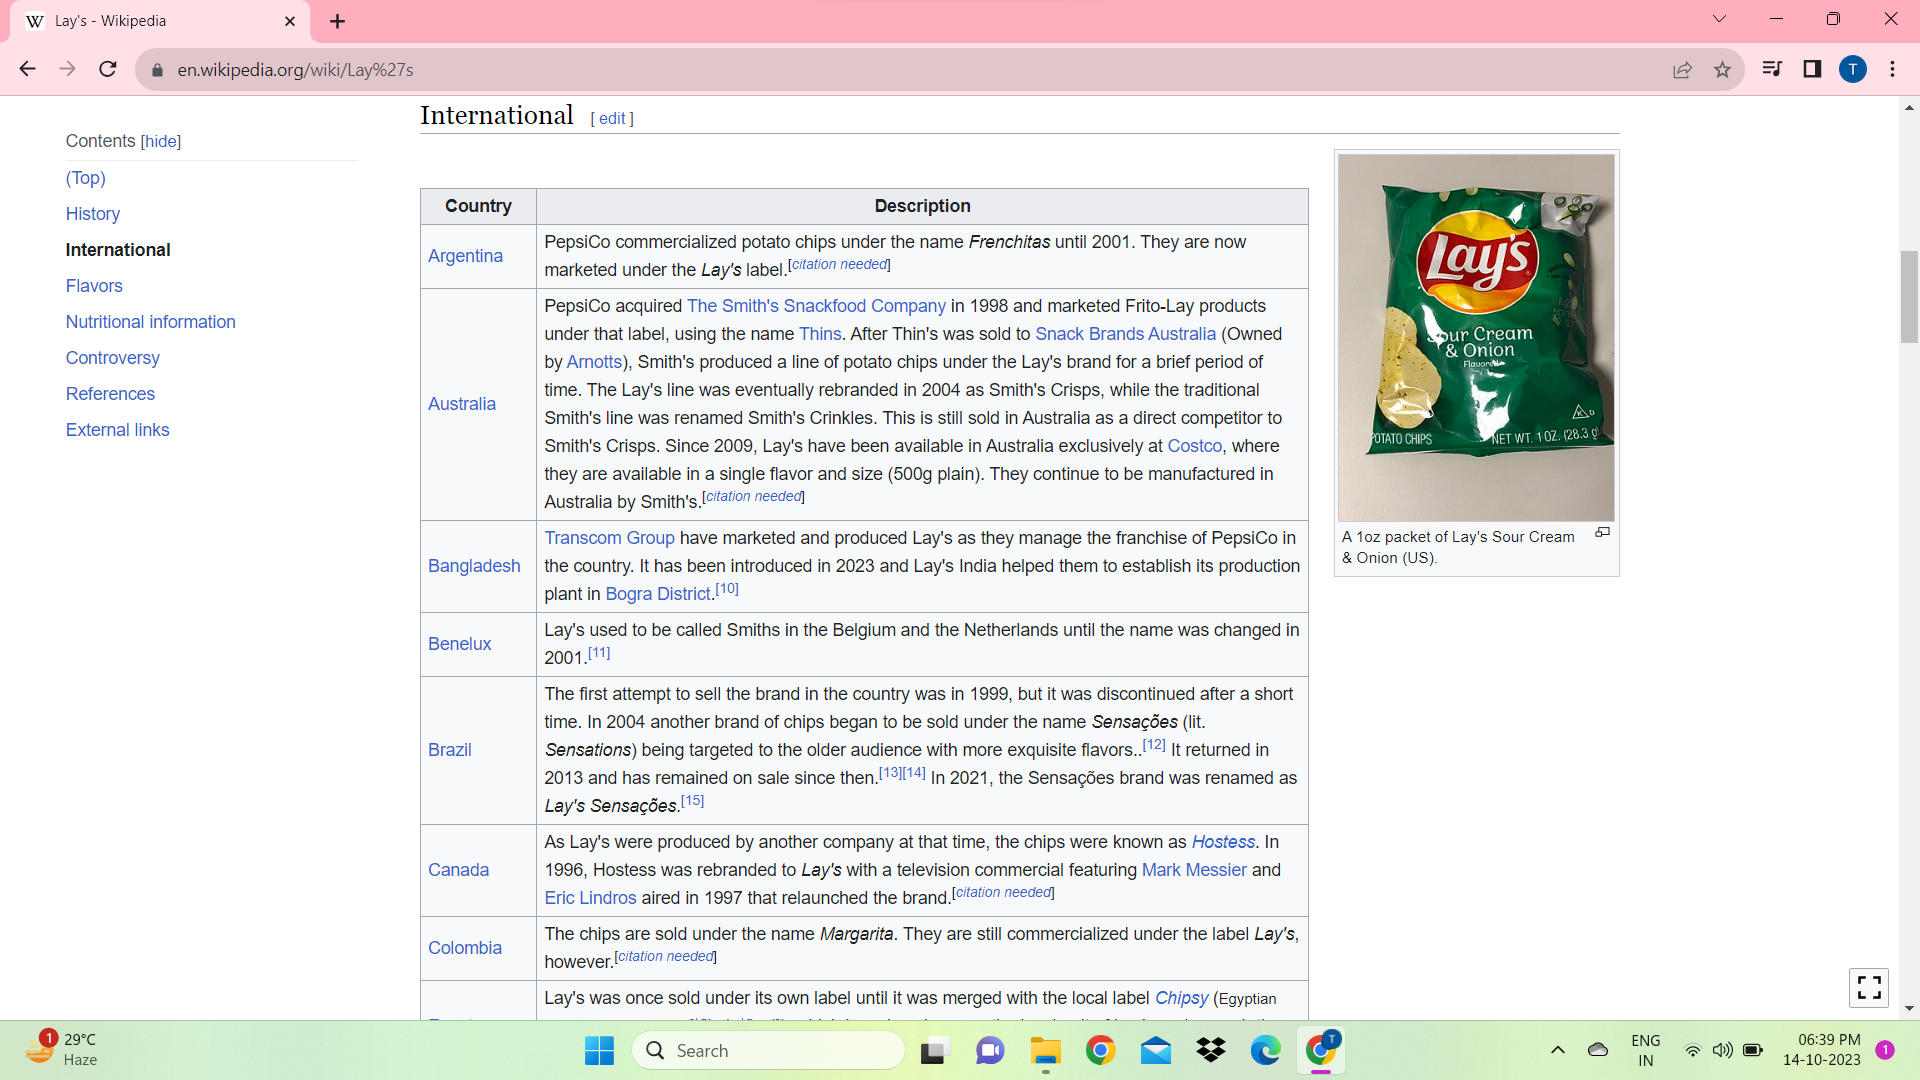Image: (1324, 145, 1615, 529)
Paragraph: (537, 289, 1282, 509), (542, 686, 1305, 820), (543, 530, 1316, 613), (530, 832, 1323, 910), (529, 916, 1336, 980), (537, 615, 1303, 675), (539, 228, 1259, 278), (529, 986, 1273, 1010), (414, 99, 584, 142), (841, 186, 998, 223), (62, 306, 237, 339), (62, 340, 170, 373), (58, 235, 181, 264), (61, 410, 179, 438), (57, 129, 194, 153), (438, 186, 525, 223), (421, 927, 506, 963), (421, 550, 518, 580), (427, 235, 509, 269), (417, 851, 501, 882), (407, 727, 495, 756), (58, 384, 169, 406), (430, 388, 501, 421), (51, 199, 136, 223), (58, 274, 138, 298), (425, 632, 496, 655), (62, 166, 116, 186)
